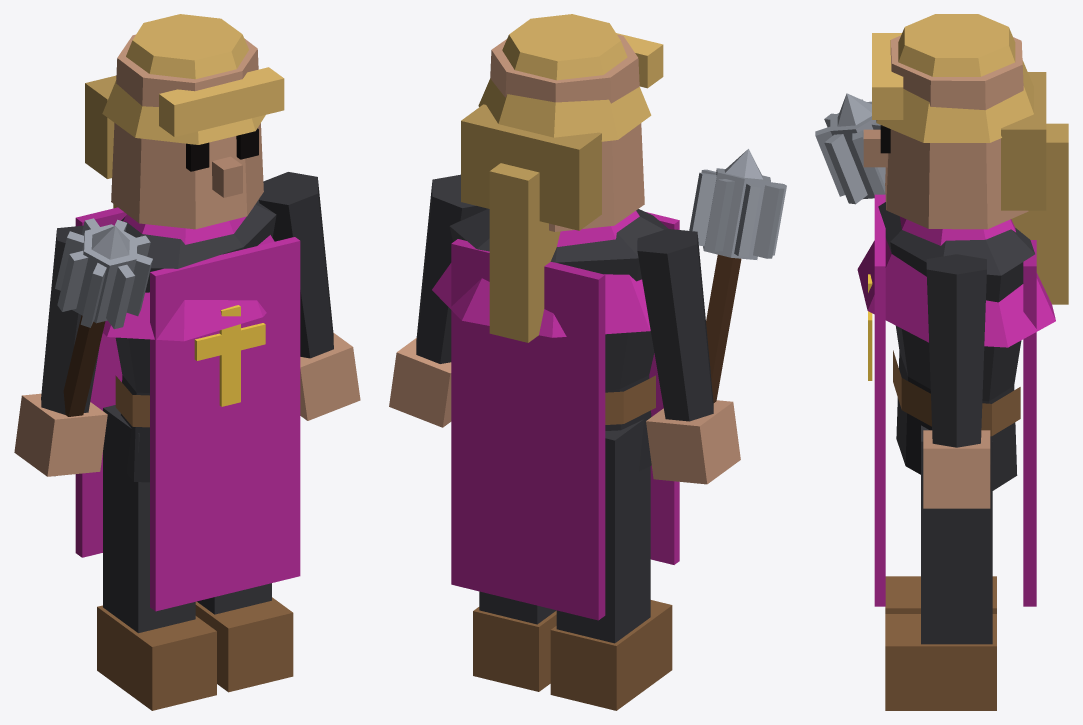
Rendered from hero_cleric.glb.
3 renders of one model, left to right at view 1: azimuth 30°, elevation 25°; view 2: azimuth 150°, elevation 25°; view 3: azimuth 270°, elevation 25°, orthographic.
Parts seen in each view (by area): view 1: hero_cleric_torso, hero_cleric_head, hero_cleric_leg_r, hero_cleric_arm_l, hero_cleric_mace, hero_cleric_arm_r, hero_cleric_leg_l; view 2: hero_cleric_torso, hero_cleric_head, hero_cleric_leg_r, hero_cleric_arm_r, hero_cleric_mace, hero_cleric_arm_l, hero_cleric_leg_l; view 3: hero_cleric_head, hero_cleric_torso, hero_cleric_leg_l, hero_cleric_arm_l, hero_cleric_mace, hero_cleric_leg_r.
Part boxes in pixels (x1,y1,x2,y2): hero_cleric_torso: (75, 199, 300, 611); hero_cleric_head: (85, 14, 284, 229); hero_cleric_leg_r: (97, 405, 216, 710); hero_cleric_arm_l: (259, 172, 360, 420); hero_cleric_mace: (55, 218, 152, 476); hero_cleric_arm_r: (14, 225, 107, 476); hero_cleric_leg_l: (195, 583, 293, 692); hero_cleric_torso: (432, 208, 679, 620); hero_cleric_head: (461, 14, 663, 342); hero_cleric_leg_r: (550, 419, 672, 710); hero_cleric_arm_r: (637, 229, 740, 484); hero_cleric_mace: (689, 149, 786, 402); hero_cleric_arm_l: (389, 174, 486, 427); hero_cleric_leg_l: (473, 591, 556, 691); hero_cleric_head: (863, 14, 1068, 304); hero_cleric_torso: (857, 194, 1055, 606); hero_cleric_leg_l: (885, 425, 996, 710); hero_cleric_arm_l: (923, 254, 990, 508); hero_cleric_mace: (815, 93, 885, 204); hero_cleric_leg_r: (885, 576, 996, 613).
Size of the model in its own units: 0.8419 by 1.58 by 0.5662.
